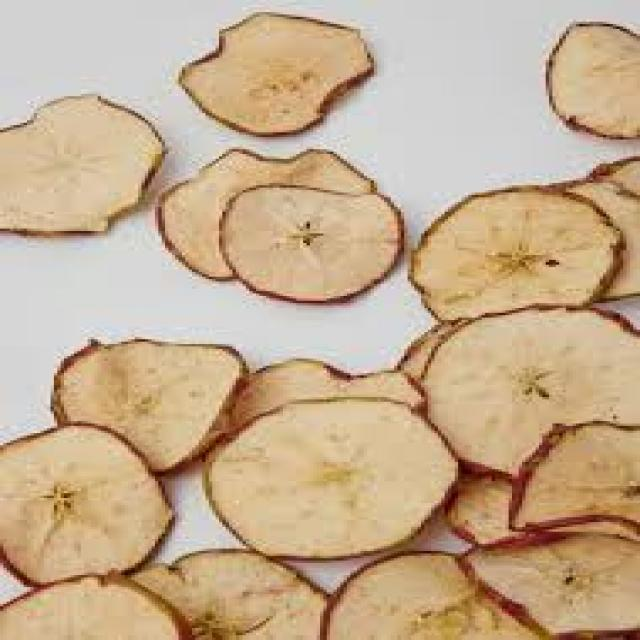Apple: (202, 395, 462, 563), (2, 83, 186, 280), (228, 178, 410, 304)
